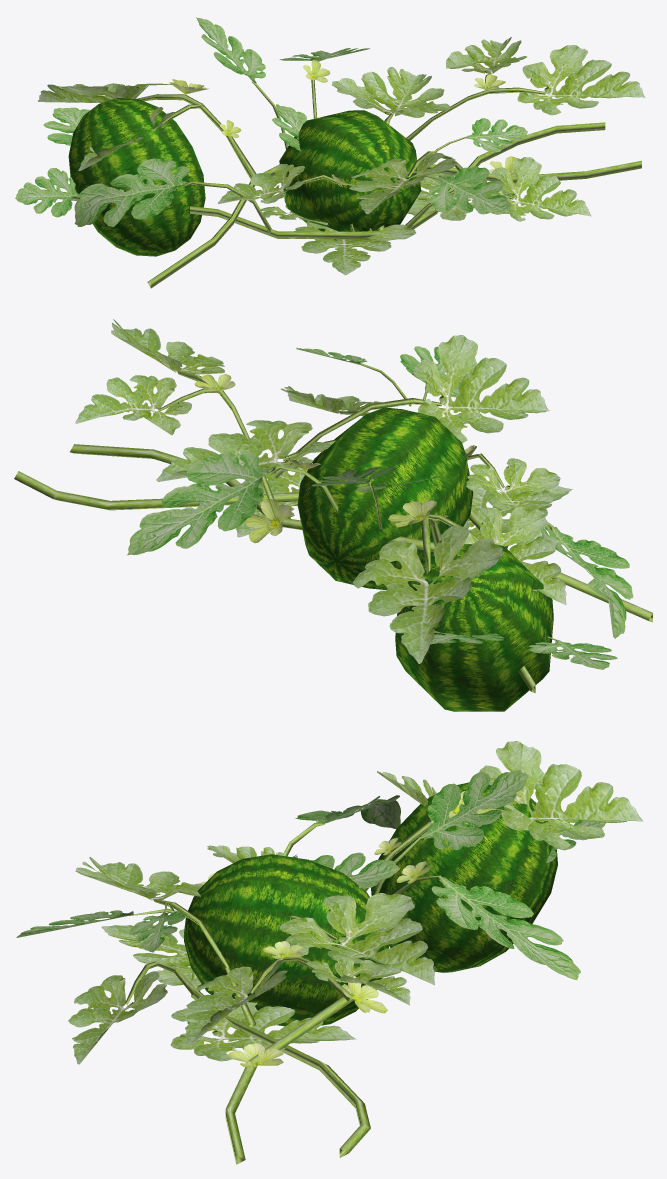
Rendered from Model_Fruit_WaterMelon.fbx.
3 renders of one model, top to bottom at view 1: azimuth 30°, elevation 25°; view 2: azimuth 150°, elevation 25°; view 3: azimuth 270°, elevation 25°, orthographic. The views are drawn at different scales.
Parts seen in each view (by area): view 1: polySurface1; view 2: polySurface1; view 3: polySurface1.
Part boxes in pixels (x1,y1,x2,y2): polySurface1: (15, 17, 645, 288); polySurface1: (14, 319, 652, 711); polySurface1: (16, 741, 642, 1164).
Size of the model in its own units: 285 by 99.71 by 234.
